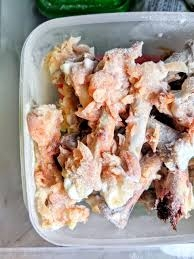kitchen_waste: (103, 53, 173, 208), (25, 101, 94, 231), (78, 37, 149, 140), (156, 132, 193, 238), (57, 137, 105, 202), (97, 142, 141, 212), (152, 73, 194, 127)
